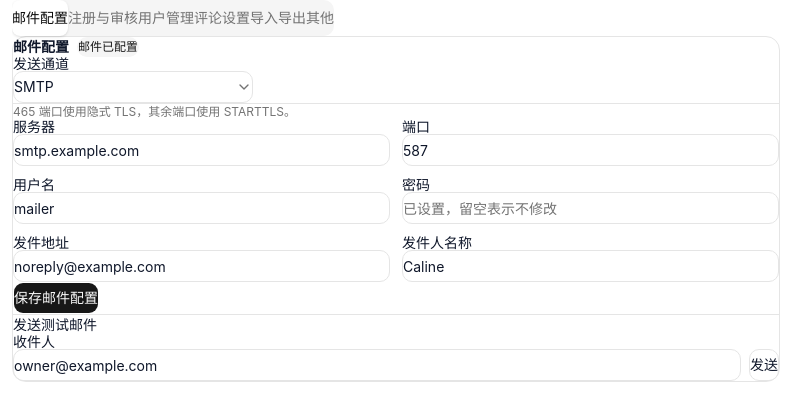
系统管理 › 用户列表为空时显示暂无用户
Step 1. Click the tab "用户管理" → (166,18), box [138, 9, 194, 26]
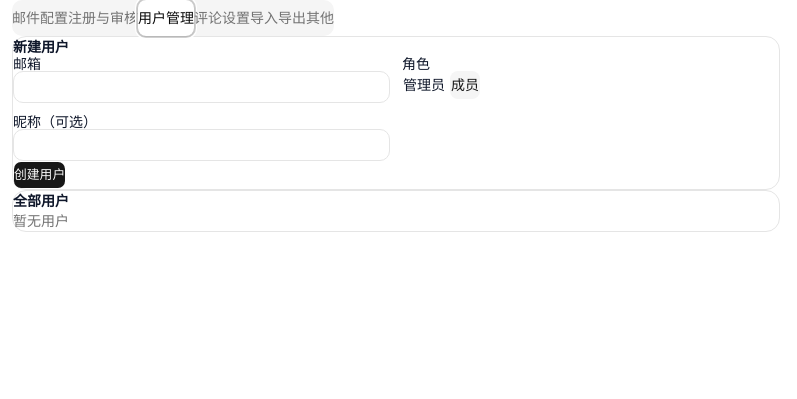
Result: the text "暂无用户" is shown at [13, 212, 69, 229]
